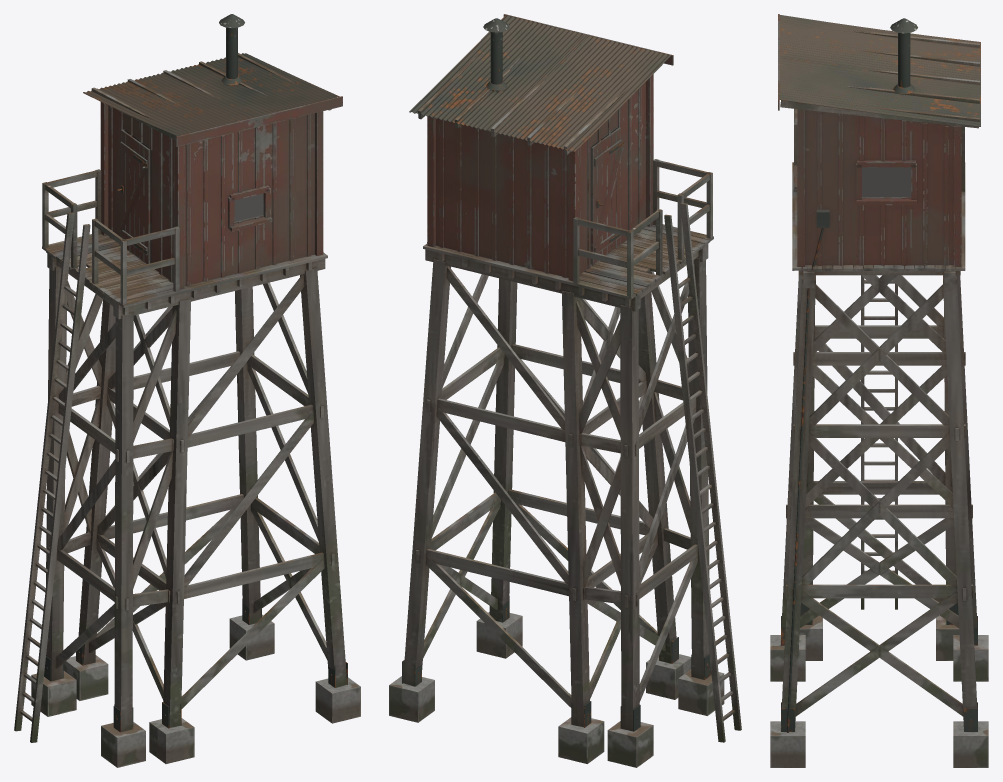
File: booth.glb
3 renders of one model, left to right at view 1: azimuth 30°, elevation 25°; view 2: azimuth 150°, elevation 25°; view 3: azimuth 270°, elevation 25°, orthographic. The views are drawn at different scales.
Parts seen in each view (by area): view 1: wood_old, wood_painted, steel_weathered, concrete, interior, glass; view 2: wood_old, wood_painted, steel_weathered, concrete; view 3: wood_old, wood_painted, steel_weathered, concrete, glass, interior.
Part boxes in pixels (x1,y1,x2,y2): wood_old: (14, 53, 347, 742); wood_painted: (100, 96, 342, 289); steel_weathered: (44, 14, 347, 732); concrete: (31, 614, 360, 767); interior: (124, 112, 276, 263); glass: (234, 193, 263, 221); wood_old: (403, 54, 741, 742); wood_painted: (427, 14, 673, 281); steel_weathered: (402, 15, 711, 731); concrete: (389, 612, 724, 767); wood_old: (780, 30, 979, 727); wood_painted: (778, 14, 961, 268); steel_weathered: (779, 15, 980, 732); concrete: (770, 615, 988, 767); glass: (862, 167, 911, 197); interior: (862, 167, 910, 196).
Bounding box in the file's own units: 5 × 11.19 × 3.1.
6 materials, 4 textured.
